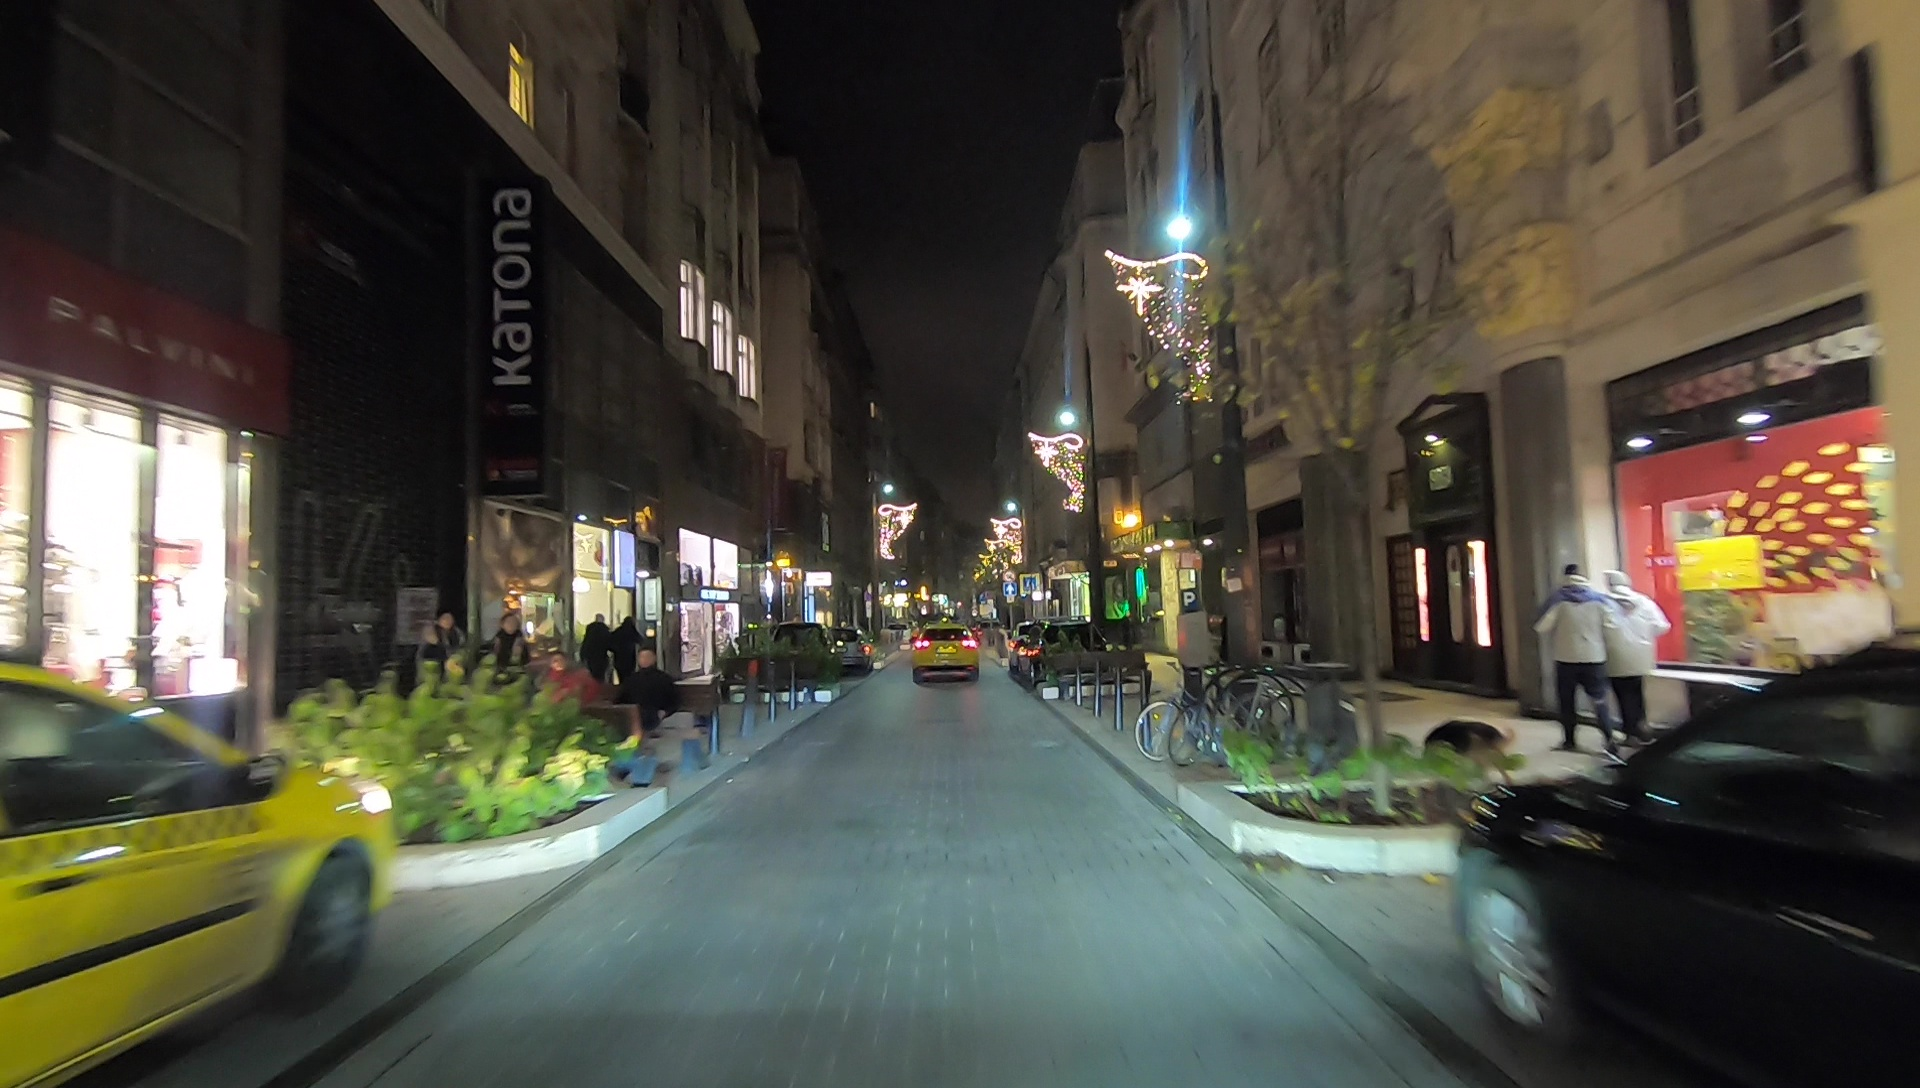person: (1543, 563, 1614, 756), (1601, 571, 1662, 747), (416, 612, 469, 723), (487, 616, 530, 732), (581, 611, 614, 693), (613, 615, 639, 701)
